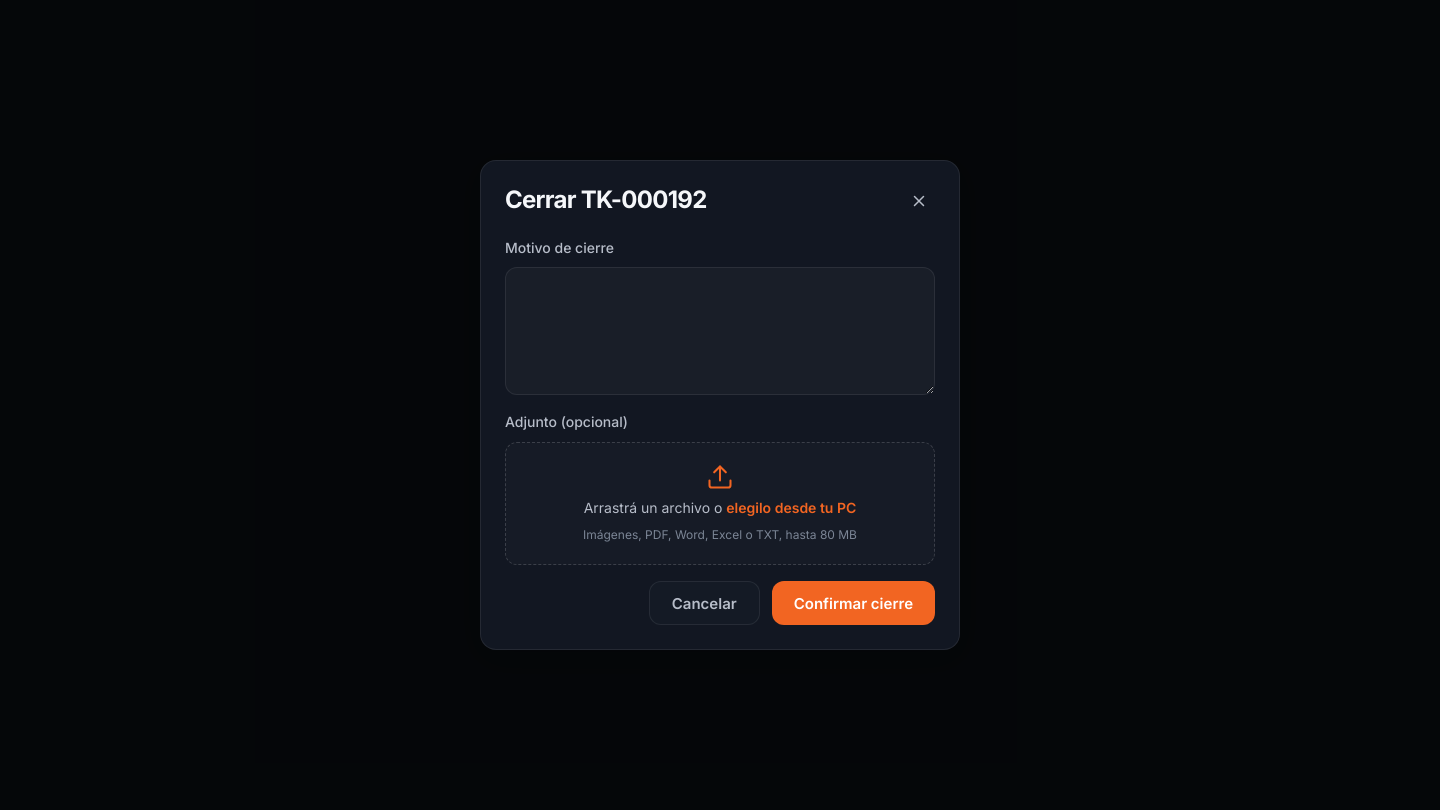
Test: ModalCerrarTicket › si falla muestra el error y deja el modal abierto
Type "Listo" into the text box labelled "Motivo de cierre" at [720, 331], box 505,267 -> 935,395
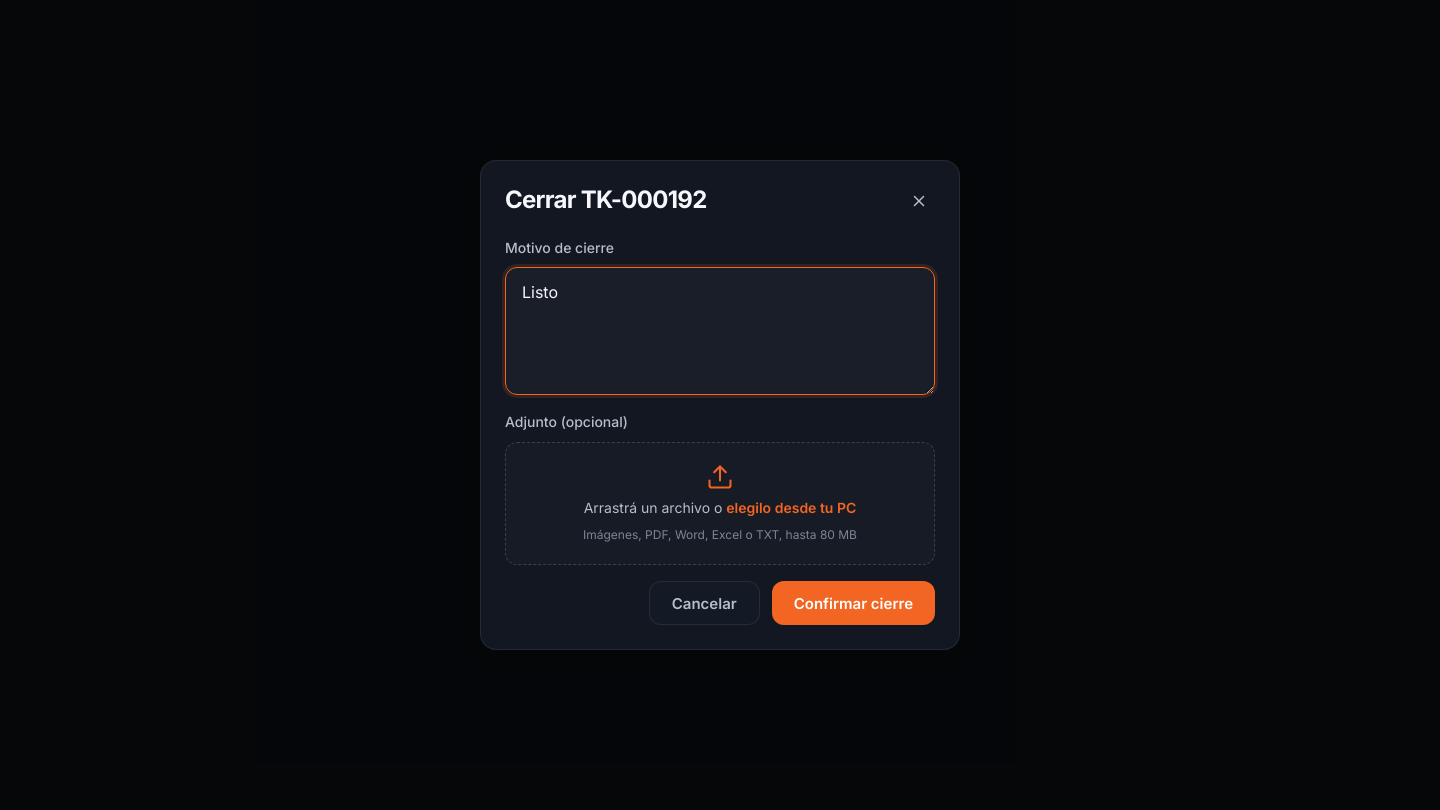
Click the button "Confirmar cierre" at [853, 603], box 772,581 -> 935,625
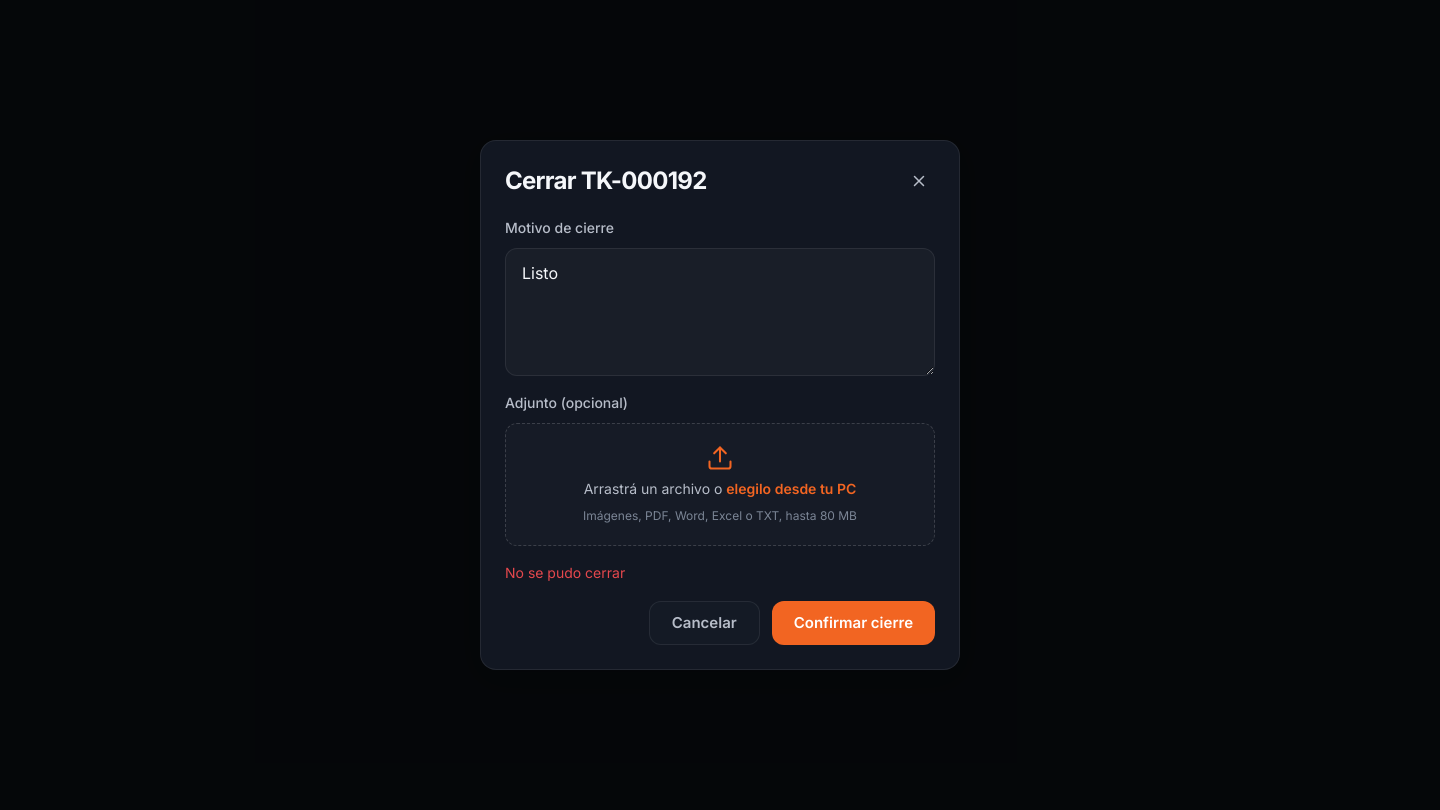
expect the text "No se pudo cerrar" is shown: met, box 505,564 -> 625,581
